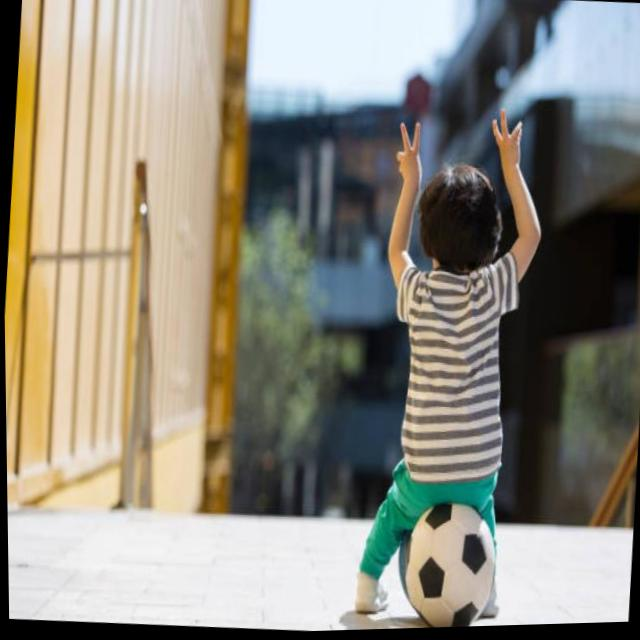no helmet: (373, 154, 522, 332)
